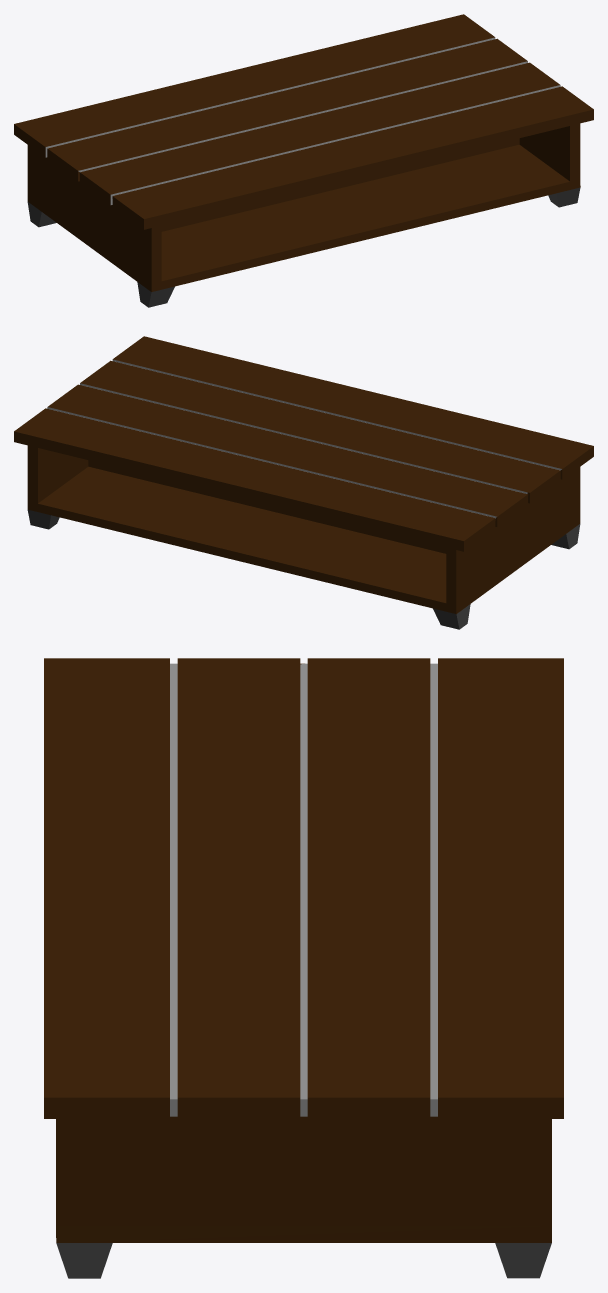
File: coffee_table_01.glb
The picture shows the model from 3 angles, top to bottom: view 1: azimuth 30°, elevation 25°; view 2: azimuth 150°, elevation 25°; view 3: azimuth 270°, elevation 25°; orthographic projection. The views are drawn at different scales.
Visible parts, largest first — view 1: Plane; view 2: Plane; view 3: Plane.
Part boxes in pixels (x1,y1,x2,y2): Plane: [14, 14, 593, 307]; Plane: [14, 336, 593, 629]; Plane: [44, 658, 563, 1278].
Size of the model in its own units: 0.9451 by 0.1918 by 0.4732.
1 material, 1 textured.
